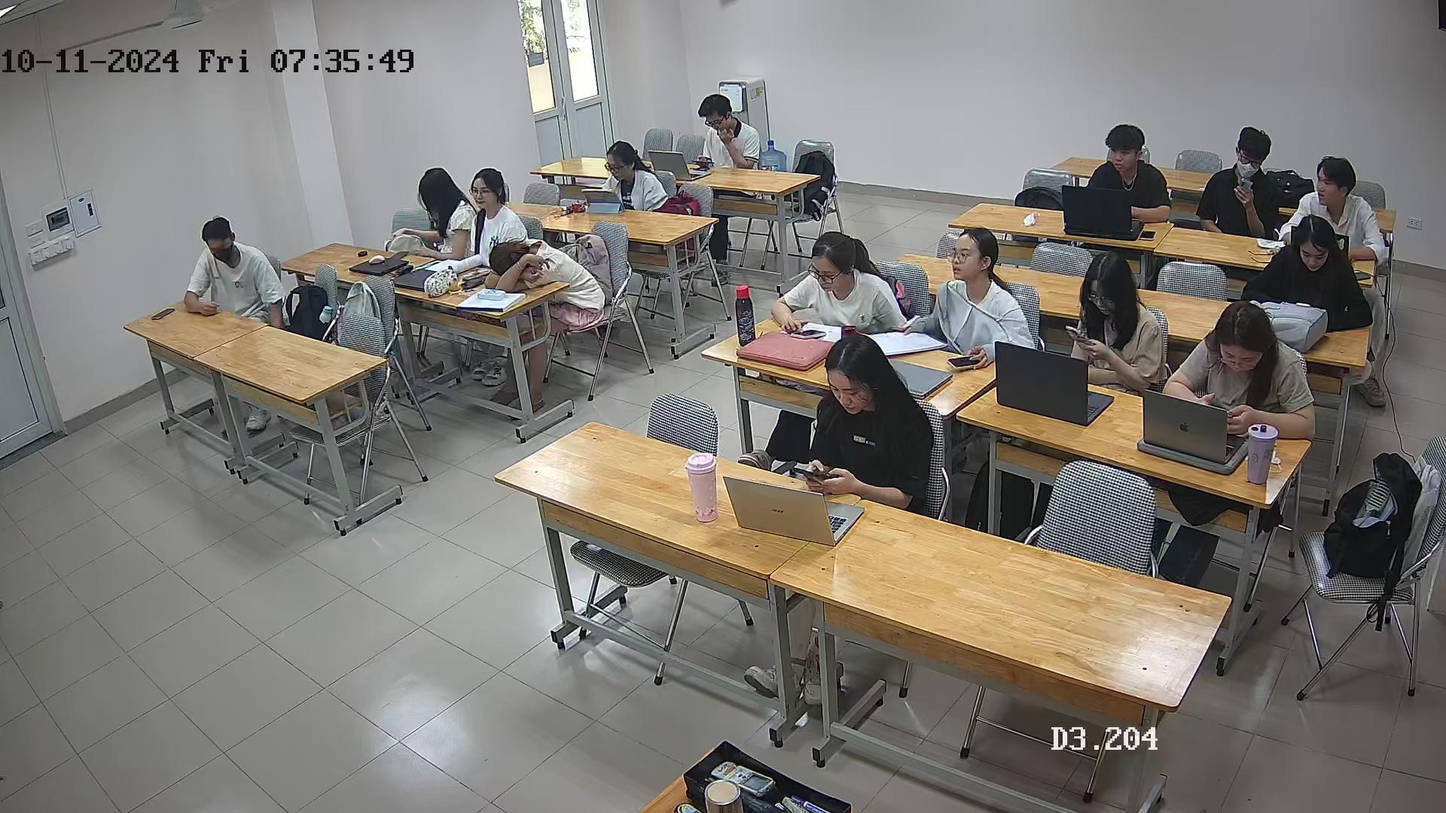Bend Over The Desk: (485, 238, 599, 303)
Look Around: (187, 212, 288, 324)
Normal: (1279, 209, 1365, 330)
phone: (1042, 324, 1125, 373), (1184, 379, 1253, 428), (794, 453, 869, 498), (940, 331, 1000, 387), (1228, 169, 1264, 218), (694, 146, 720, 181)
